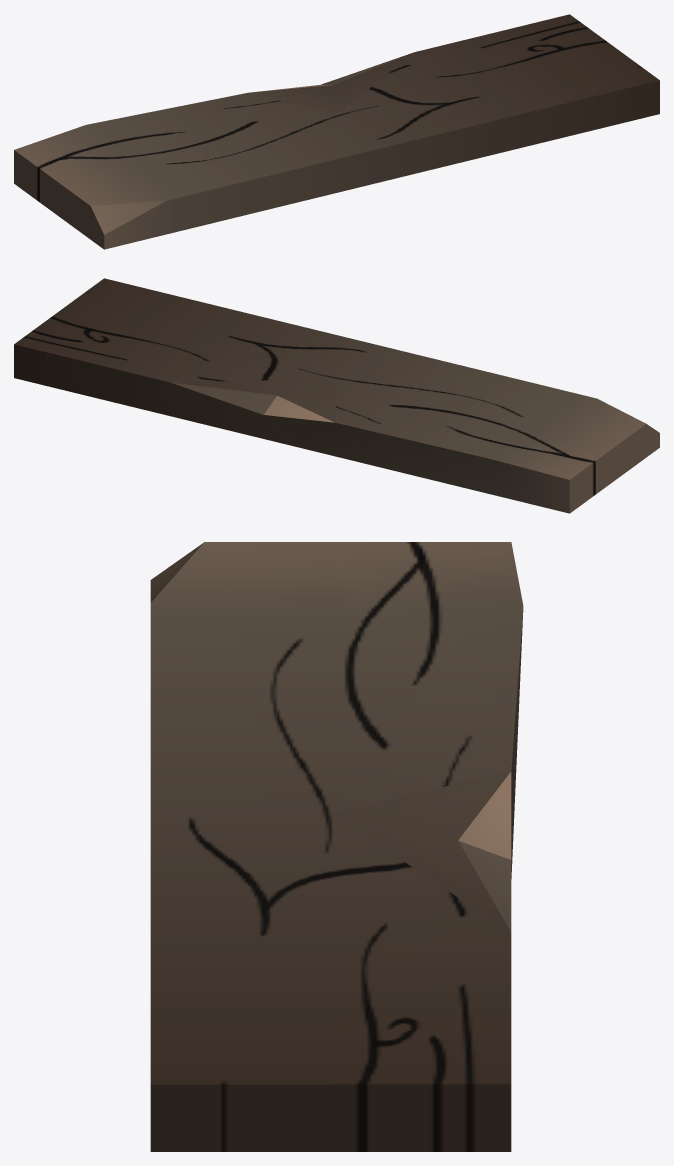
File: Wood_Plank_03.fbx
3 renders of one model, top to bottom at view 1: azimuth 30°, elevation 25°; view 2: azimuth 150°, elevation 25°; view 3: azimuth 270°, elevation 25°, orthographic. The views are drawn at different scales.
Parts seen in each view (by area): view 1: Cube.232; view 2: Cube.232; view 3: Cube.232.
Boxes of the visible parts, box(x1,y1,x2,y2) form: Cube.232: box(14, 14, 659, 249); Cube.232: box(14, 278, 659, 513); Cube.232: box(150, 542, 523, 1151).
Bounding box in the file's own units: 195 × 12.81 × 56.58.
